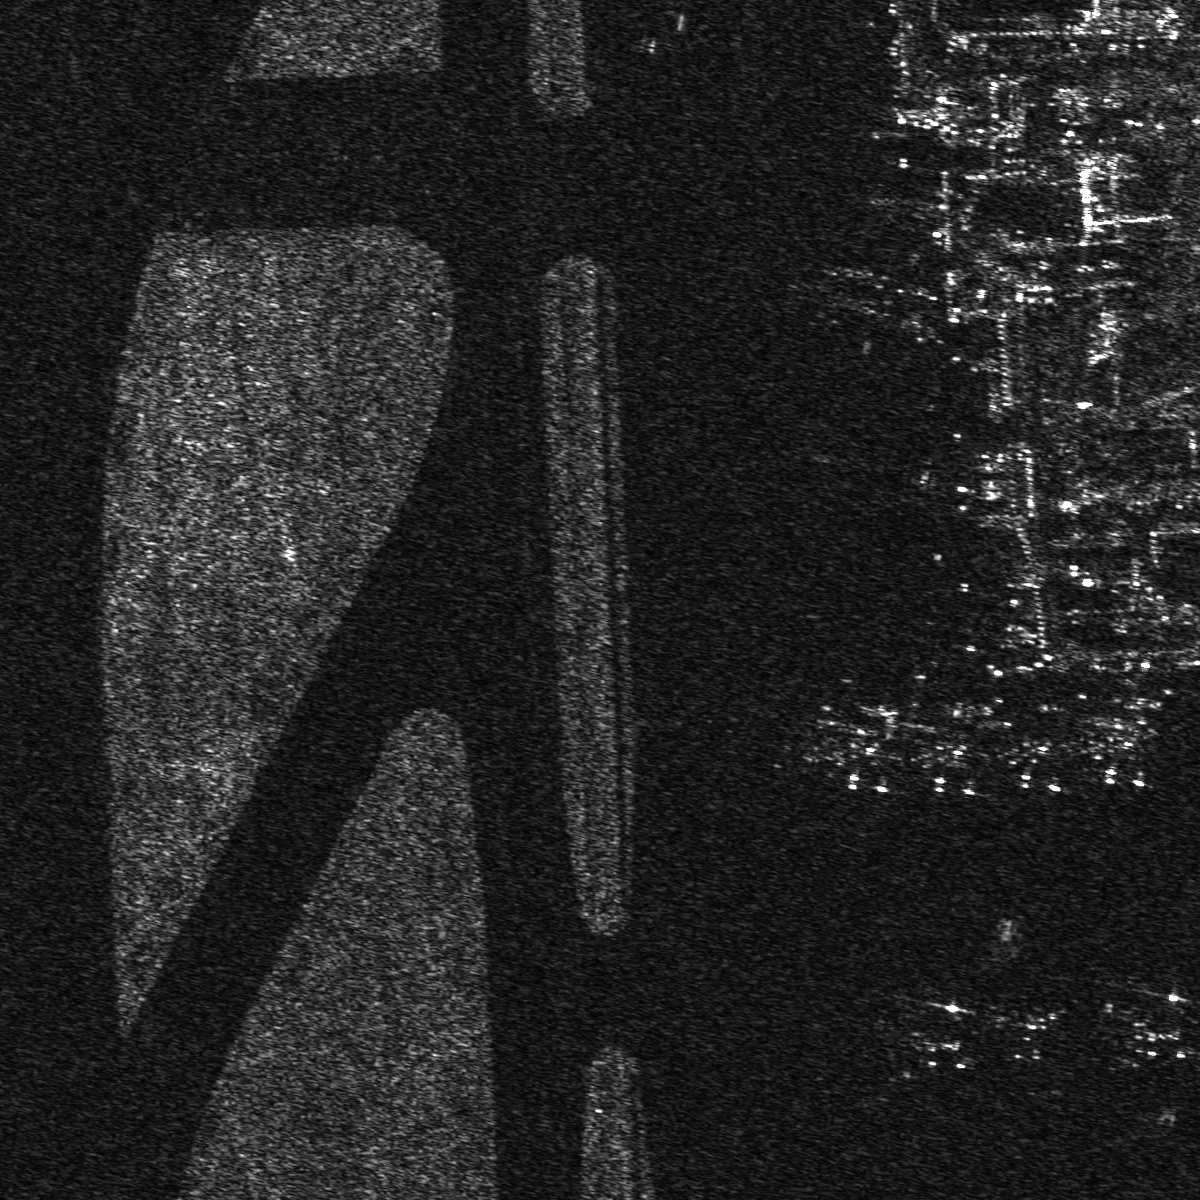A320/321: (832, 702, 904, 795)
Boeing737: (907, 705, 991, 796), (997, 702, 1076, 793)
other: (1105, 979, 1199, 1064), (1079, 696, 1162, 791), (896, 992, 976, 1075), (993, 995, 1079, 1068)
